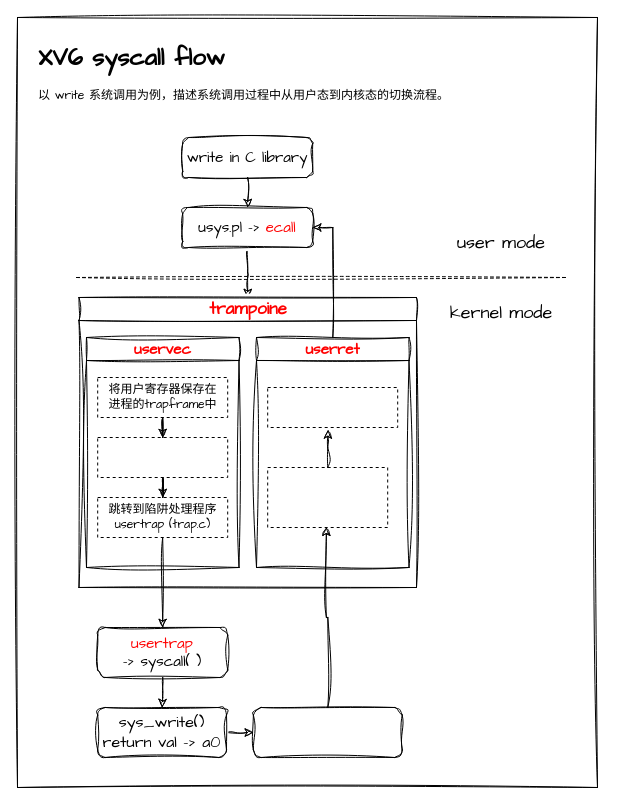
Image size: 624x805. Some labels were removed from this diagram. The centre of each missing label's shape, as x and y in pixels:
"usertrap -> usertrapret (c fun)" belongs at [327,732].
"从trapframe中读取 内核栈、内核页表等" belongs at [162,457].
"切换回用户页表 从trapframe恢复 用户寄存器" belongs at [327,497].
"执行sret 返回ecall下一条语句" belongs at [332,407].
